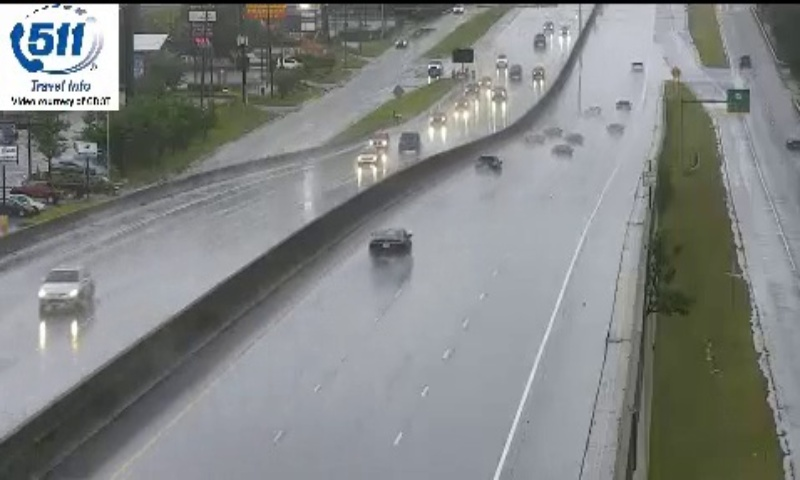car: (369, 228, 411, 262), (474, 155, 503, 178)
